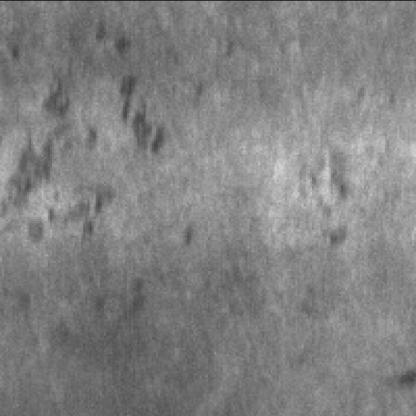rolled-in_scale: (0, 29, 168, 249), (293, 137, 354, 254)
